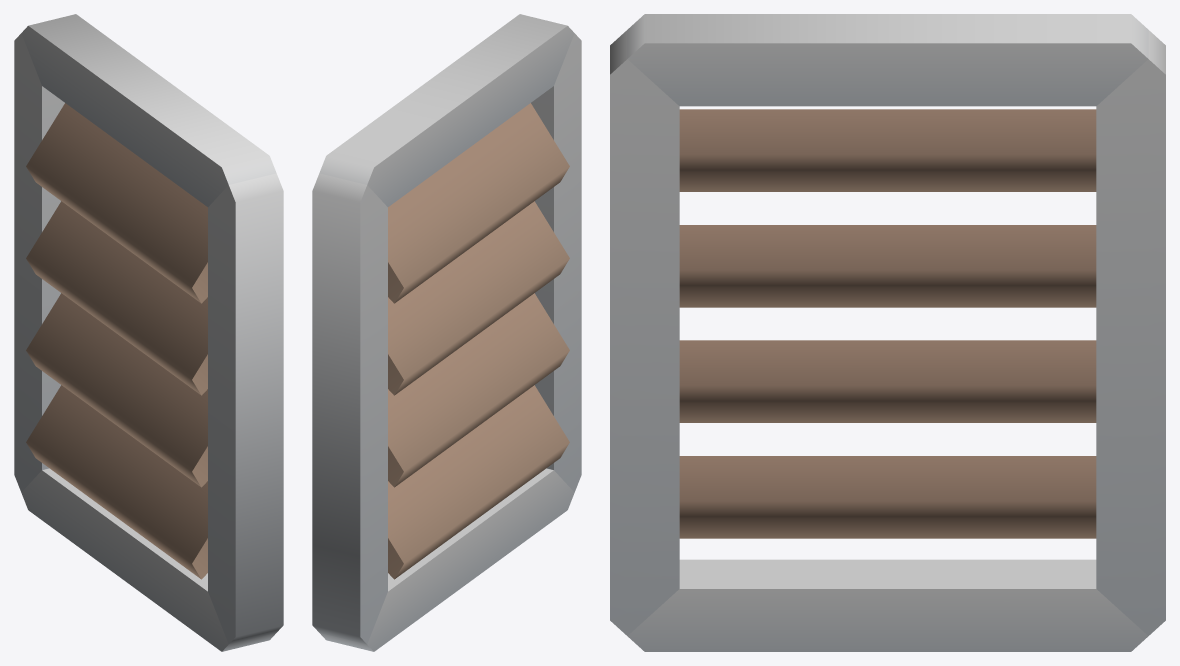
The model's file is shutter-square (%wall).glb.
3 views of the same model, side by side, from view 1: azimuth 30°, elevation 25°; view 2: azimuth 150°, elevation 25°; view 3: azimuth 270°, elevation 25° (orthographic). The views are drawn at different scales.
Visible parts, largest first — view 1: shutter-square (%wall); view 2: shutter-square (%wall); view 3: shutter-square (%wall).
Part boxes in pixels (x1=…): shutter-square (%wall): x1=14, y1=14, x2=283, y2=651; shutter-square (%wall): x1=312, y1=14, x2=581, y2=651; shutter-square (%wall): x1=610, y1=14, x2=1165, y2=651.
Size of the model in its own units: 0.0668 by 0.4832 by 0.4.
